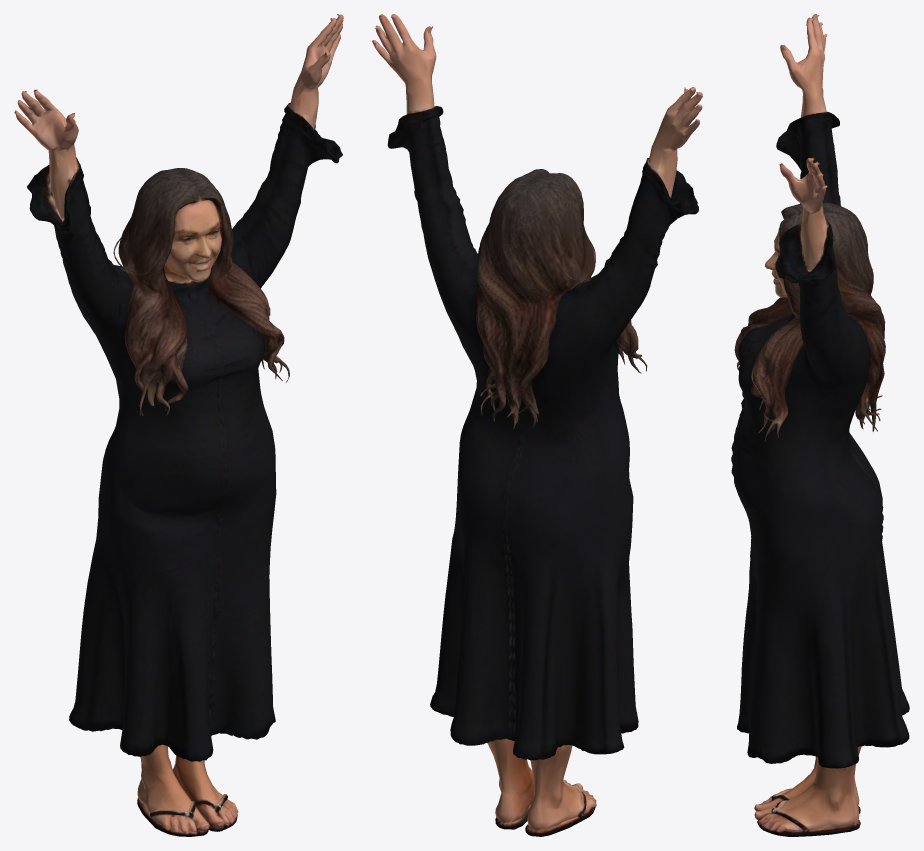
The model's file is jodie.glb.
3 renders of one model, left to right at view 1: azimuth 30°, elevation 25°; view 2: azimuth 150°, elevation 25°; view 3: azimuth 270°, elevation 25°, orthographic. The views are drawn at different scales.
Visible parts, largest first — view 1: model; view 2: model; view 3: model.
Boxes of the visible parts, box(x1,y1,x2,y2) form: model: box(14, 14, 343, 836); model: box(372, 14, 702, 836); model: box(731, 14, 909, 836).
Size of the model in its own units: 0.4387 by 0.9792 by 0.2165.
1 material, 1 textured.
